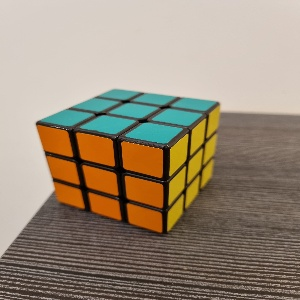cube: (36, 89, 221, 236)
